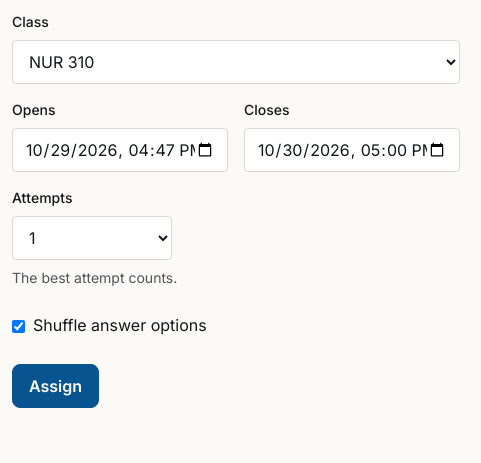
AssignmentForm › shows the server's refusal and focuses the first field
Click the button "Assign". click: [56, 386]
box: [12, 364, 99, 408]
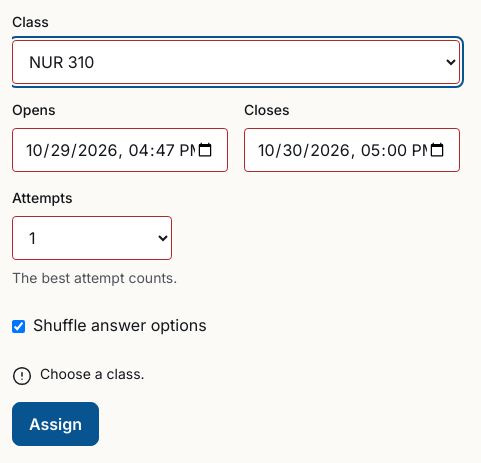
expect the message reads "Choose a class.": met, box [40, 365, 145, 382]
